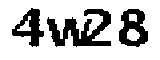2: (87, 5, 114, 51)
4: (10, 7, 46, 49)
8: (119, 7, 150, 51)
w: (45, 16, 91, 49)
